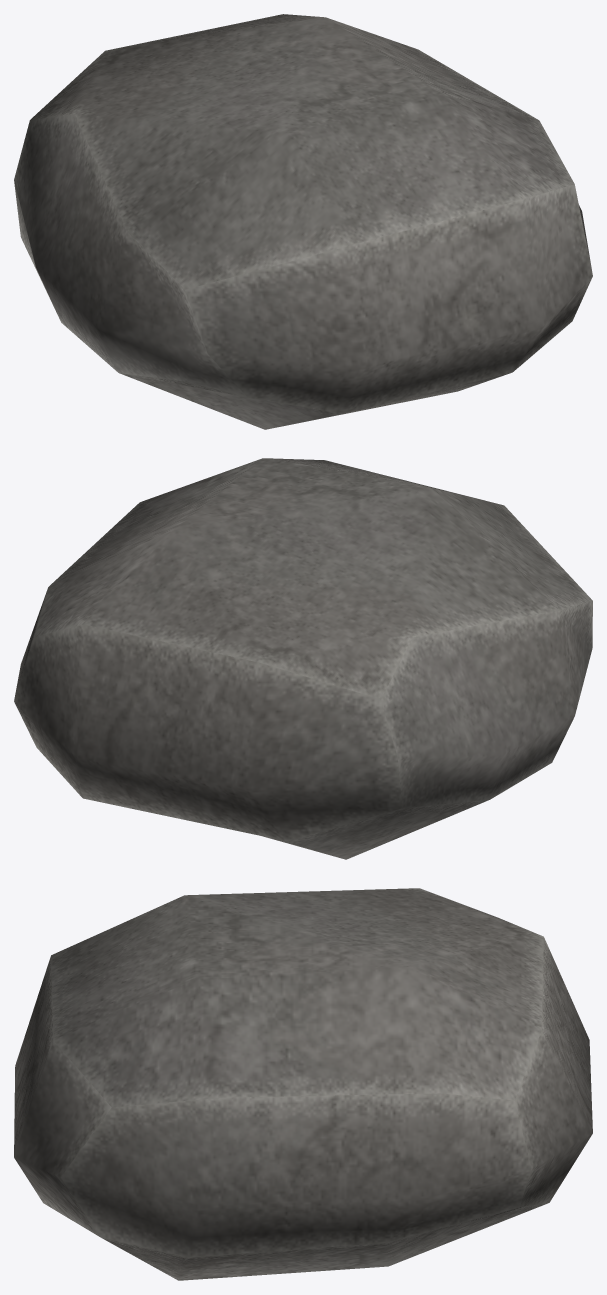
File: Rock_09.fbx
3 views of the same model, one above another, from view 1: azimuth 30°, elevation 25°; view 2: azimuth 150°, elevation 25°; view 3: azimuth 270°, elevation 25° (orthographic). The views are drawn at different scales.
Parts seen in each view (by area): view 1: Rock_09; view 2: Rock_09; view 3: Rock_09.
Boxes of the visible parts, x1=… form: Rock_09: x1=14, y1=14, x2=592, y2=429; Rock_09: x1=14, y1=458, x2=592, y2=859; Rock_09: x1=14, y1=888, x2=592, y2=1280.
Bounding box in the file's own units: 1.89 × 1.15 × 1.99.
1 material, 1 textured.
